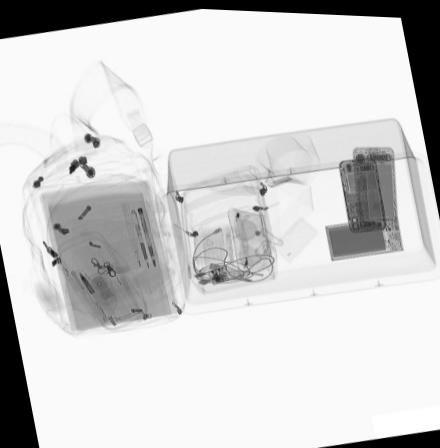Powerbank: (324, 213, 406, 258)
